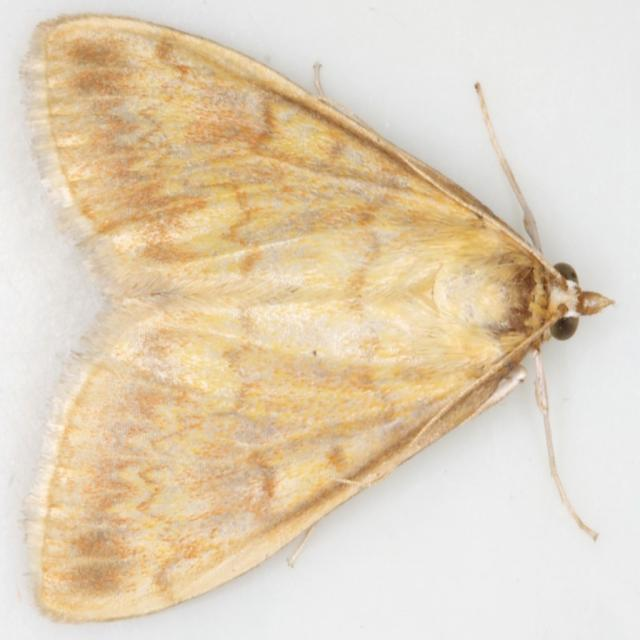cornborer-Adult-: (15, 9, 638, 628)
